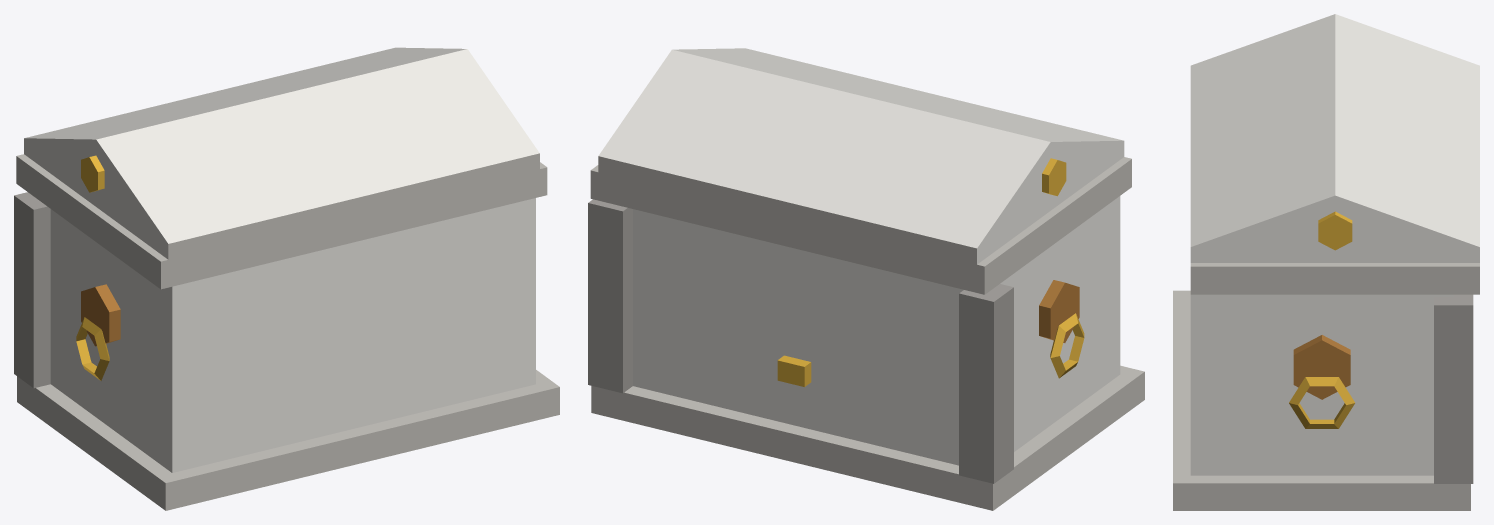
File: PR_ArmoryChest_D.fbx
The picture shows the model from 3 angles, left to right: view 1: azimuth 30°, elevation 25°; view 2: azimuth 150°, elevation 25°; view 3: azimuth 270°, elevation 25°; orthographic projection.
Parts seen in each view (by area): view 1: Body, Lid; view 2: Body, Lid; view 3: Lid, Body.
Boxes of the visible parts, x1,y1,x2,y2 form: Body: [14, 192, 559, 510]; Lid: [16, 47, 547, 289]; Body: [588, 196, 1144, 510]; Lid: [590, 48, 1131, 294]; Lid: [1190, 14, 1479, 294]; Body: [1173, 290, 1473, 510].
Bounding box in the file's own units: 1.06 × 0.7 × 0.78.
